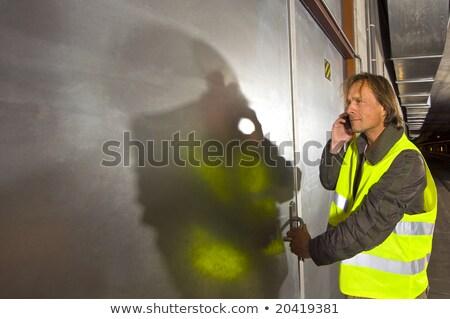phone: (333, 103, 353, 136)
